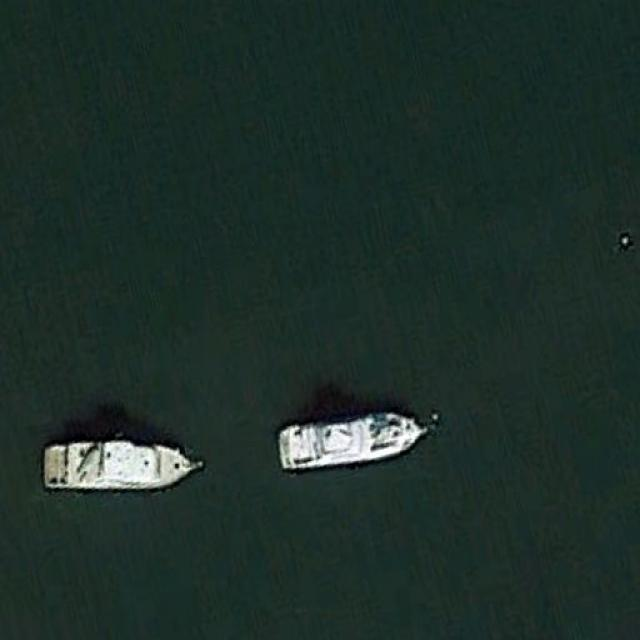ship: (276, 408, 438, 474), (42, 432, 208, 494)
